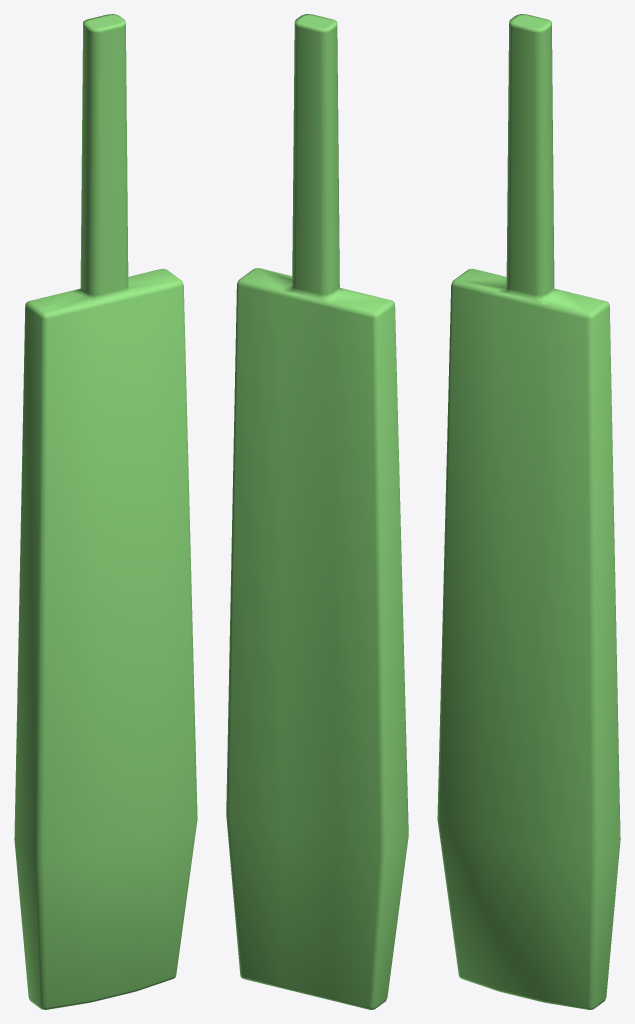
File: bat.gltf
3 renders of one model, left to right at view 1: azimuth 30°, elevation 25°; view 2: azimuth 150°, elevation 25°; view 3: azimuth 330°, elevation 25°, orthographic.
Visible parts, largest first — view 1: bat; view 2: bat; view 3: bat.
Part boxes in pixels (x1,y1,x2,y2): bat: (14,14,197,1009); bat: (226,14,408,1009); bat: (437,14,620,1009).
Bounding box in the file's own units: 0.2494 × 1.43 × 0.0944.
